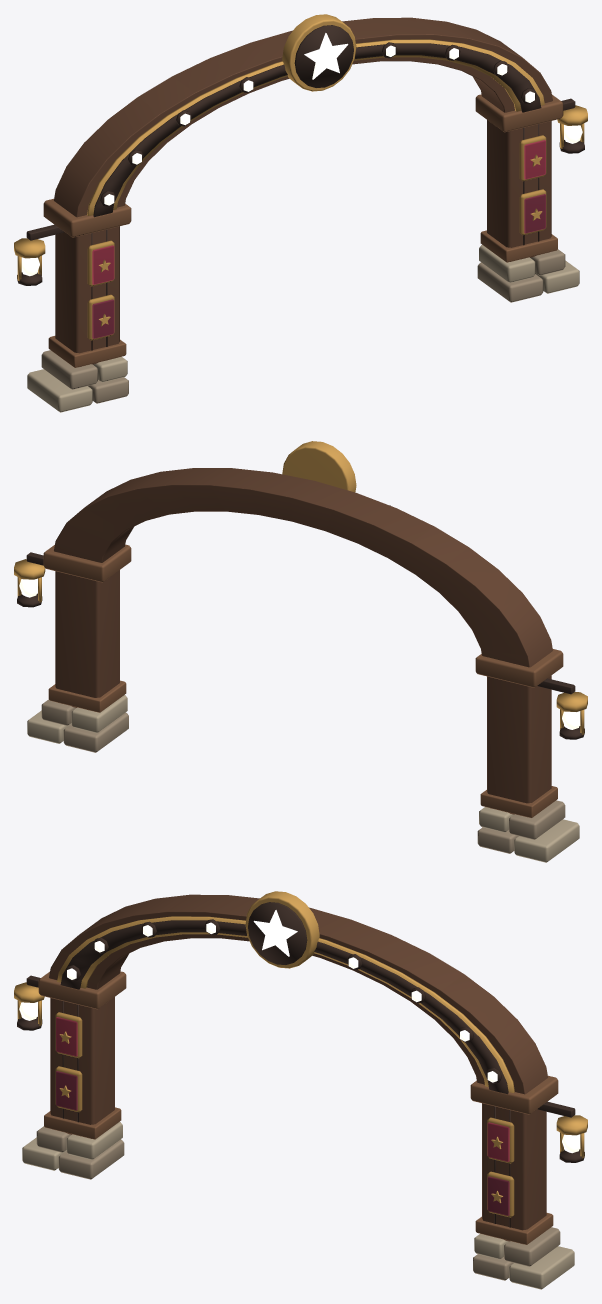
The model's file is ticket-arch.glb.
3 views of the same model, one above another, from view 1: azimuth 30°, elevation 25°; view 2: azimuth 150°, elevation 25°; view 3: azimuth 330°, elevation 25° (orthographic).
Parts seen in each view (by area): view 1: ticket-arch; view 2: ticket-arch; view 3: ticket-arch.
Boxes of the visible parts, left/top/right/bottom form: ticket-arch: left=14, top=14, right=587, bottom=412; ticket-arch: left=14, top=441, right=587, bottom=862; ticket-arch: left=14, top=891, right=587, bottom=1289.
Size of the model in its own units: 6.08 by 3.38 by 0.738.
